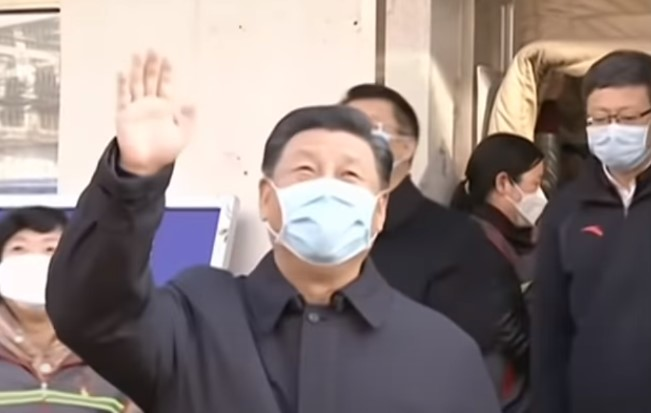face_with_mask: (257, 107, 394, 271), (578, 49, 647, 178), (466, 133, 552, 233), (0, 209, 67, 315)
